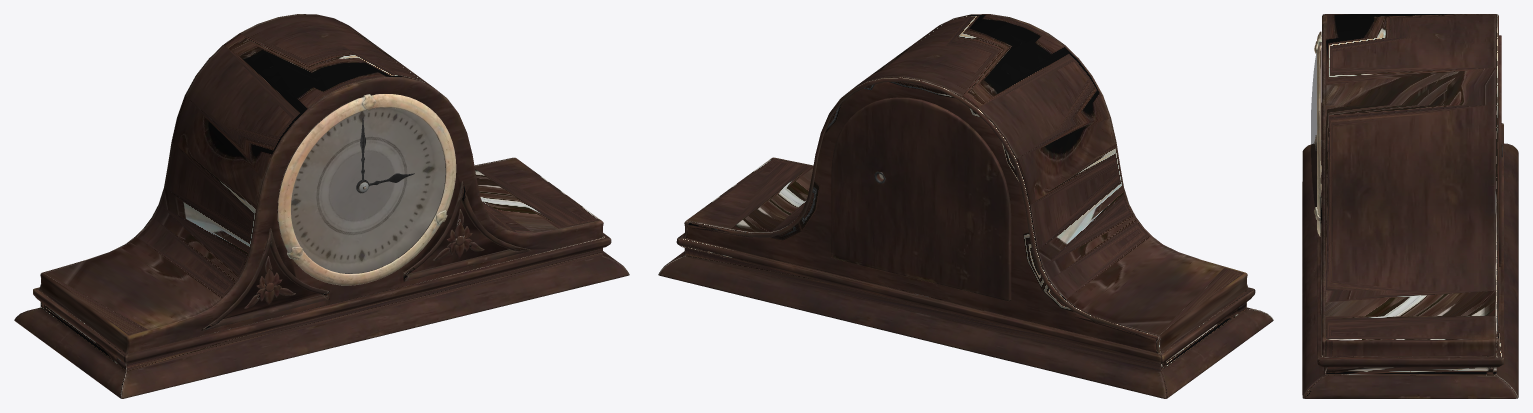
The model's file is mantel_clock_01.glb.
3 renders of one model, left to right at view 1: azimuth 30°, elevation 25°; view 2: azimuth 150°, elevation 25°; view 3: azimuth 270°, elevation 25°, orthographic.
Visible parts, largest first — view 1: mantel_clock_01, mantel_clock_01_glass; view 2: mantel_clock_01; view 3: mantel_clock_01, mantel_clock_01_glass.
Part boxes in pixels (box(x1,y1,x2,y2)): mantel_clock_01: box(14, 14, 629, 398); mantel_clock_01_glass: box(291, 108, 445, 273); mantel_clock_01: box(658, 14, 1273, 398); mantel_clock_01: box(1302, 14, 1518, 398); mantel_clock_01_glass: box(1311, 53, 1316, 206).
Bounding box in the file's own units: 0.3423 × 0.1605 × 0.1262.
2 materials, 2 textured.
